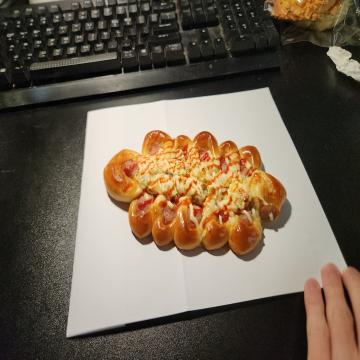pizza_bread: (103, 130, 283, 256)
